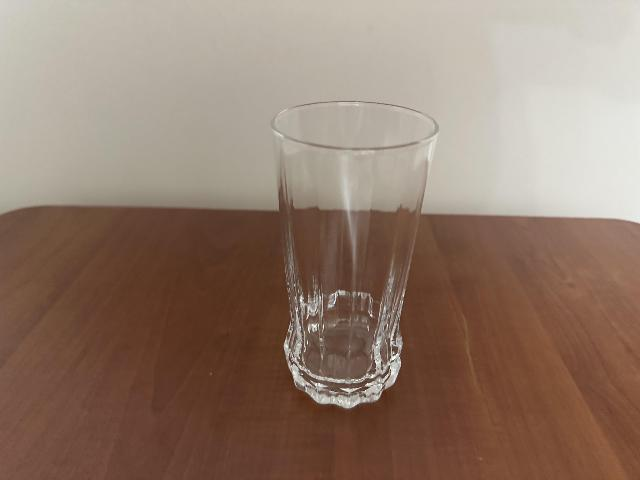Cam: (268, 95, 441, 411)
